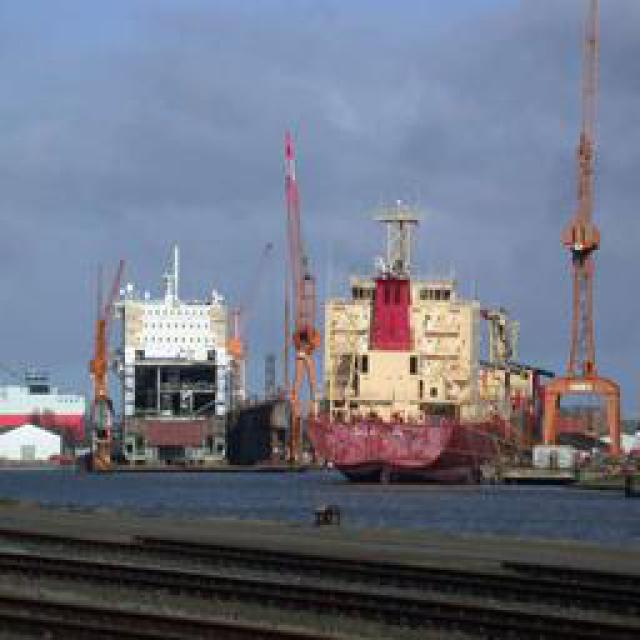Ship: (302, 245, 563, 480)
